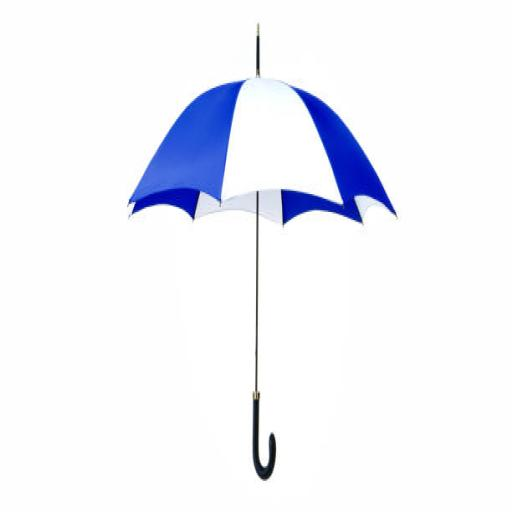guarda_chuva: (127, 22, 398, 480)
